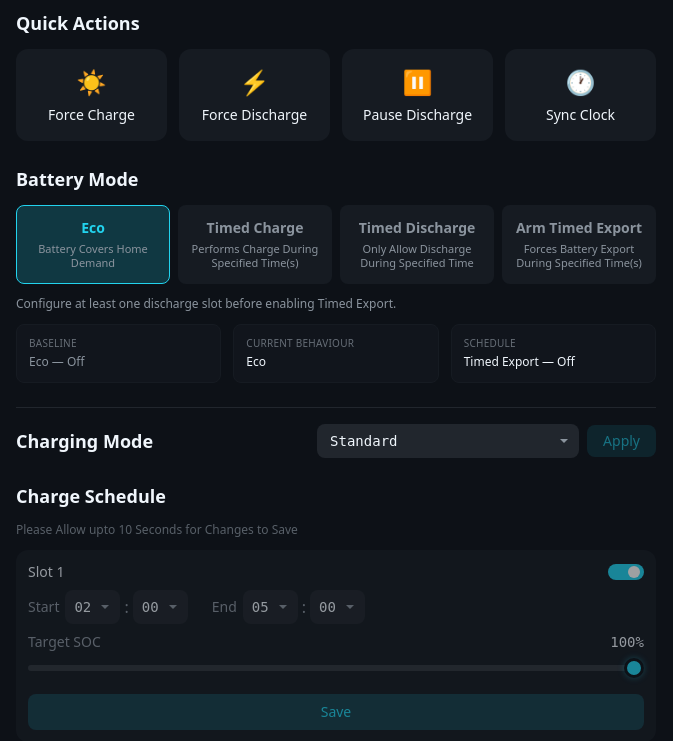
Test case: <ControlPage/> — Charge Schedule armed vs not-active (issue #135) › reports an unconfirmed charge-slot save when readback times out
Click the button "Save" at (336, 712), box x1=28 y1=694 x2=644 y2=730
Wait 15000 ms
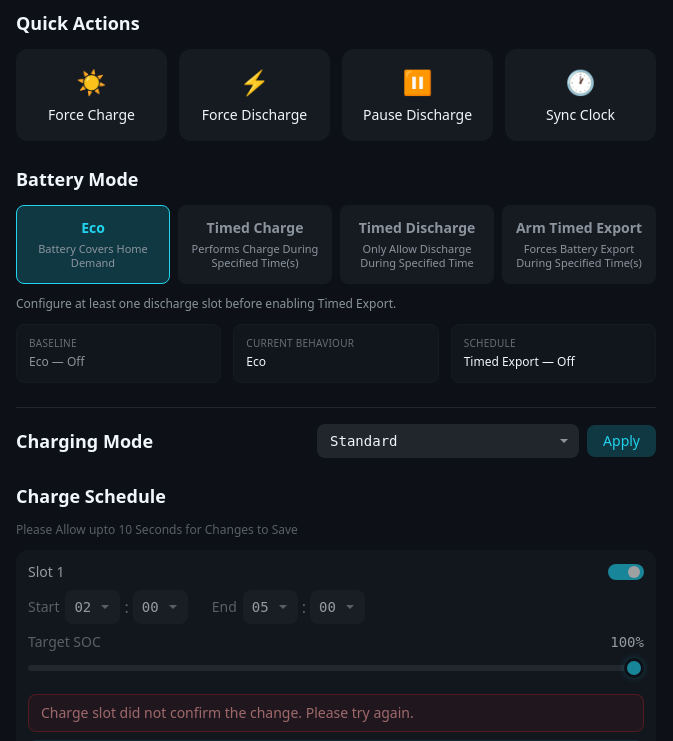
Check: the message "Charge slot did not confirm the change. Please try again." is shown, box x1=28 y1=694 x2=644 y2=732
